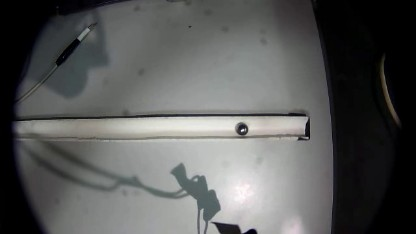gangzhu: (235, 120, 248, 134)
